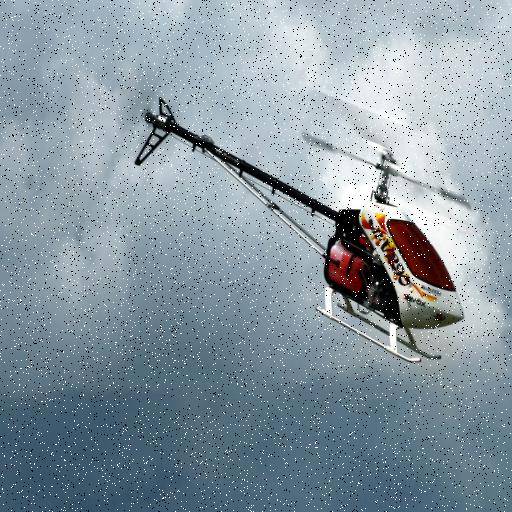helicopter: (133, 95, 473, 363)
